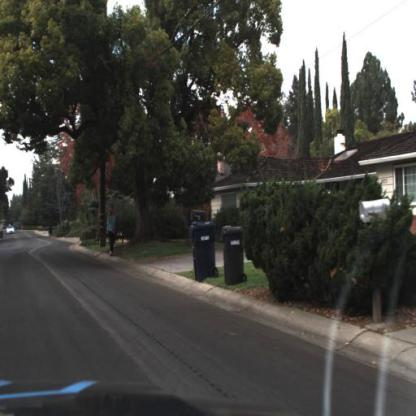car: (6, 222, 19, 240)
pedestrian: (107, 203, 120, 259)
